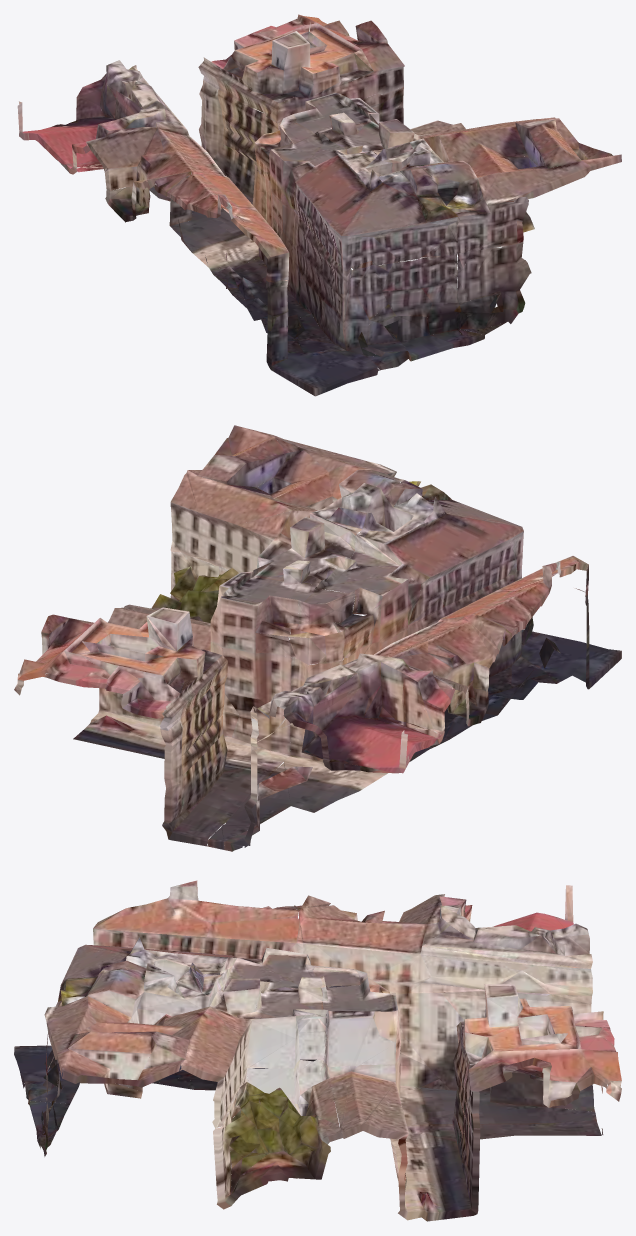
The picture shows the model from 3 angles, top to bottom: view 1: azimuth 30°, elevation 25°; view 2: azimuth 150°, elevation 25°; view 3: azimuth 270°, elevation 25°; orthographic projection. The views are drawn at different scales.
Visible parts, largest first — view 1: Mesh_0; view 2: Mesh_0; view 3: Mesh_0.
Boxes of the visible parts, bbox=[...] form: Mesh_0: bbox=[17, 14, 621, 396]; Mesh_0: bbox=[14, 425, 621, 851]; Mesh_0: bbox=[14, 880, 621, 1221].
Size of the model in its own units: 67.49 by 28.4 by 82.43.
Materials: 2 (2 with a texture image).
